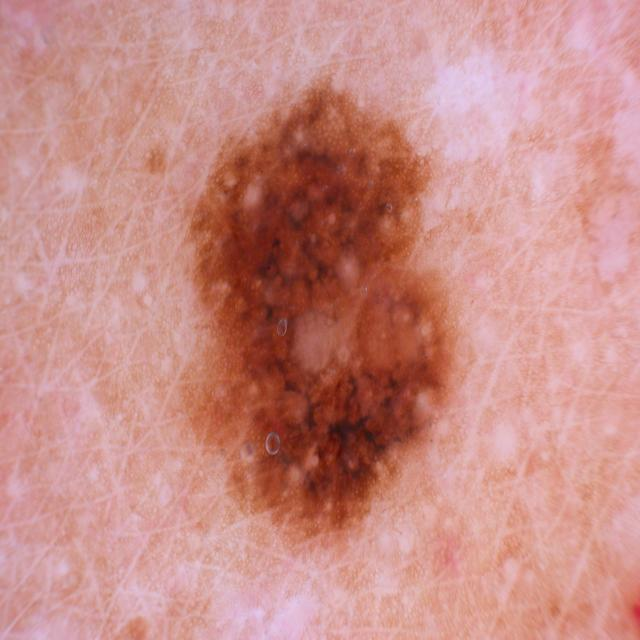Benign: (182, 71, 459, 542)
